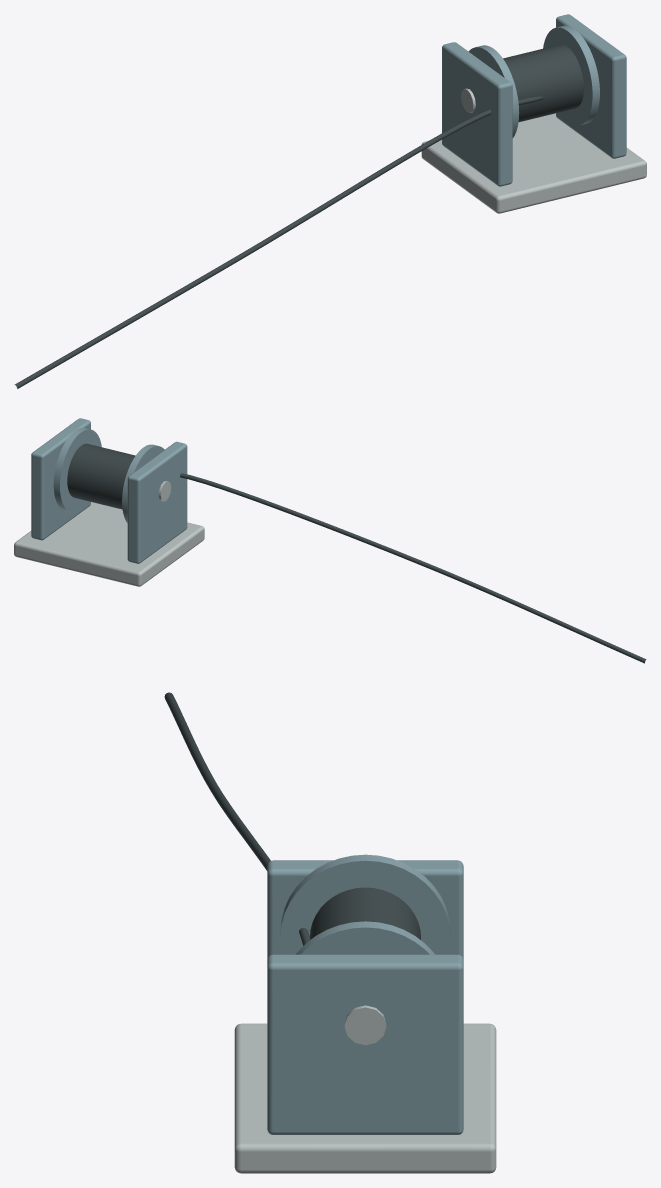
File: abandoned-tidal-model-testing-hall-model-mooring-winch-c1391534__32355.glb
The picture shows the model from 3 angles, top to bottom: view 1: azimuth 30°, elevation 25°; view 2: azimuth 150°, elevation 25°; view 3: azimuth 270°, elevation 25°; orthographic projection. The views are drawn at different scales.
Visible parts, largest first — view 1: model-mooring-winch; view 2: model-mooring-winch; view 3: model-mooring-winch.
Part boxes in pixels (bbox=[...]): model-mooring-winch: bbox=[14, 14, 646, 388]; model-mooring-winch: bbox=[14, 418, 646, 663]; model-mooring-winch: bbox=[164, 692, 496, 1173].
Bounding box in the file's own units: 1.95 × 0.4767 × 0.5069.
